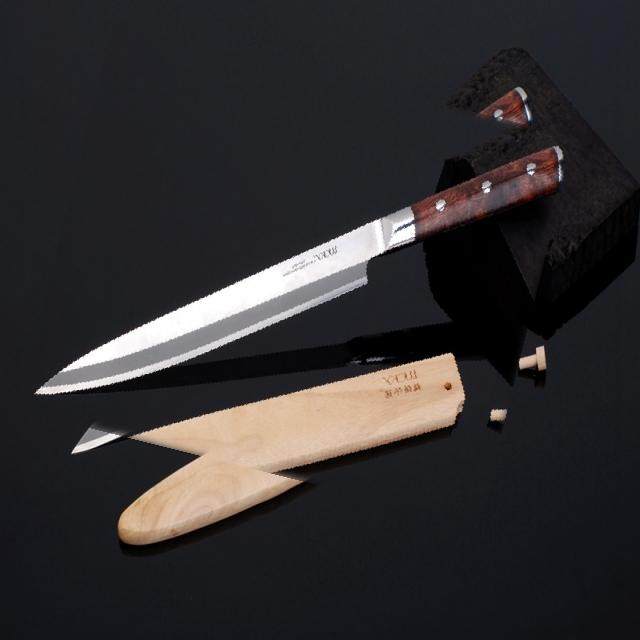knife: (38, 48, 554, 500)
